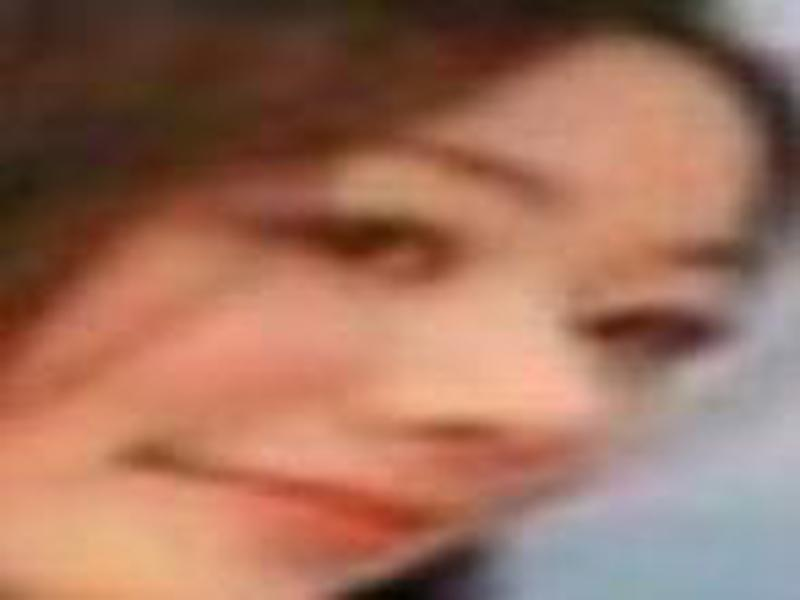without_mask: (1, 40, 766, 600)
